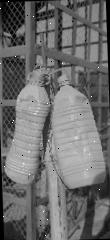plastic: (50, 72, 108, 190), (0, 63, 56, 185)
